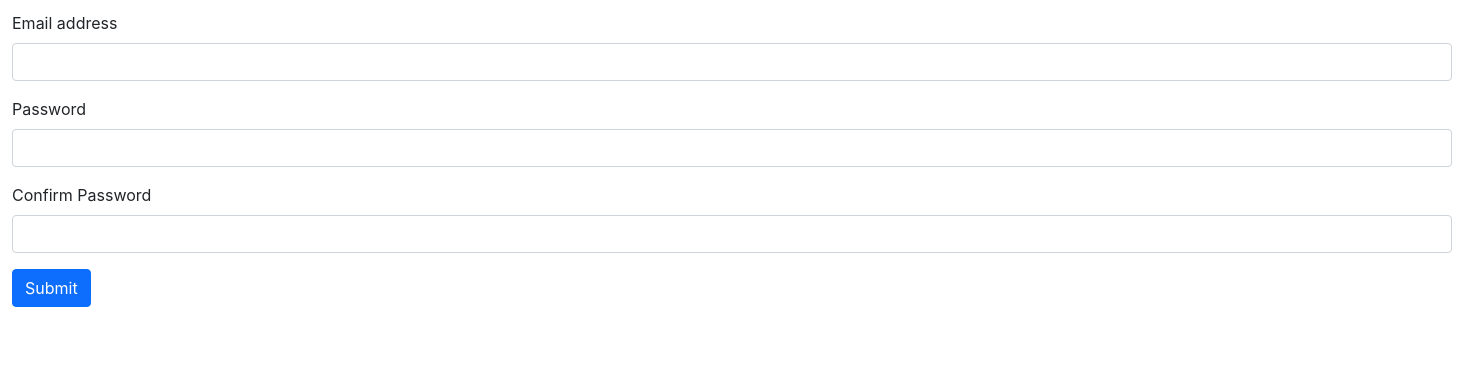
Test: App › Error Handling › should show confirm password error if password is less than 5 characters
This screenshot has width=1464, height=368.
Type "selena@gmail.com" into the field labelled "Email address" at (732, 62), box [12, 43, 1452, 81]
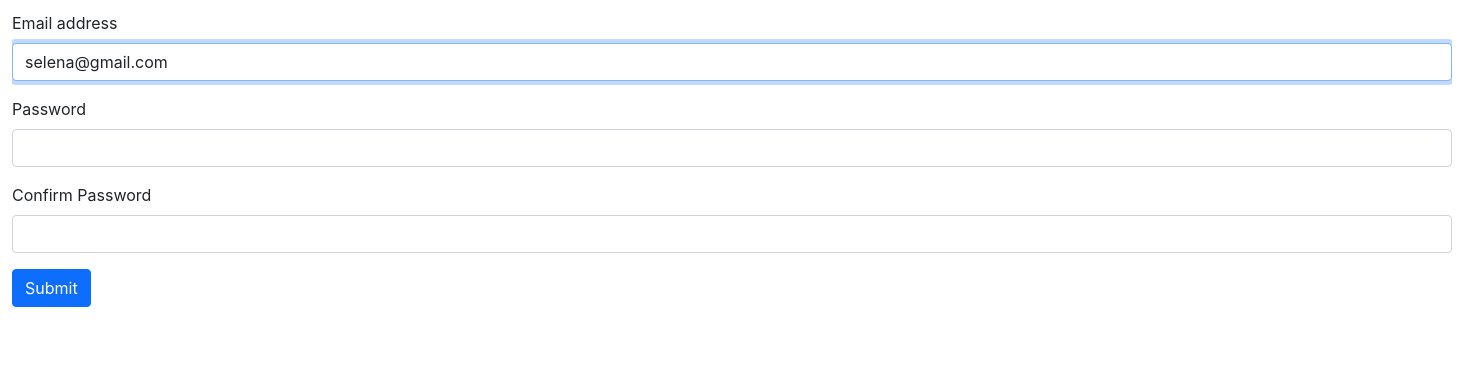
Type "12345" into the password field labelled "Password" at (732, 148), box [12, 129, 1452, 167]
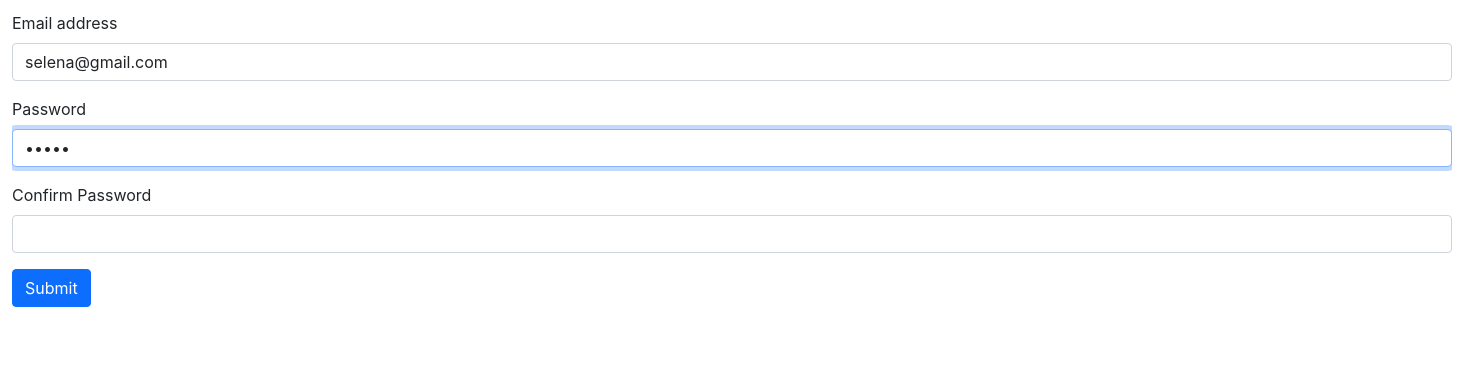
expect the text "the passwords don't match. try again" is not shown: met
Type "12543" into the password field labelled "Confirm Password" at (732, 234), box [12, 215, 1452, 253]
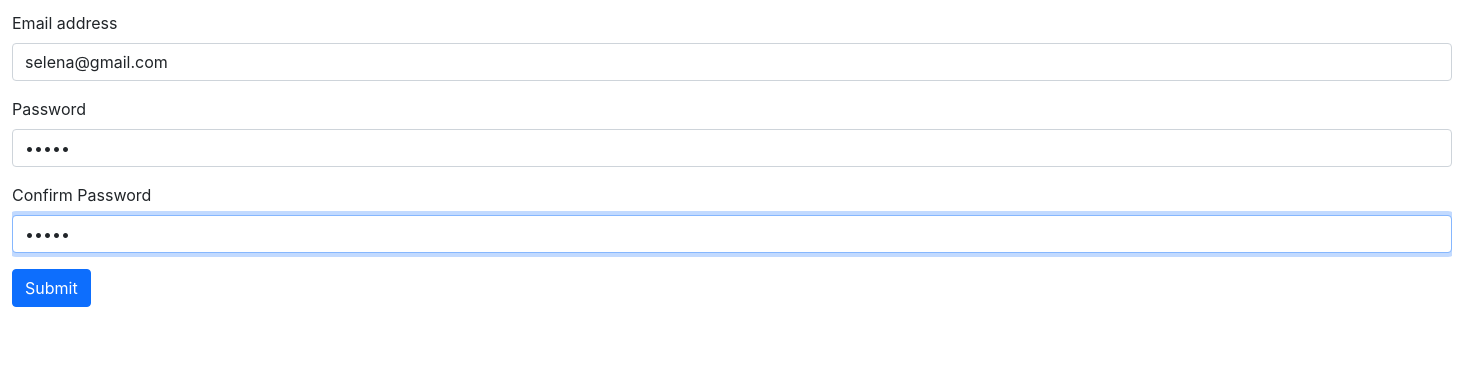
Click the button "Submit" at (51, 288), box [12, 269, 91, 307]
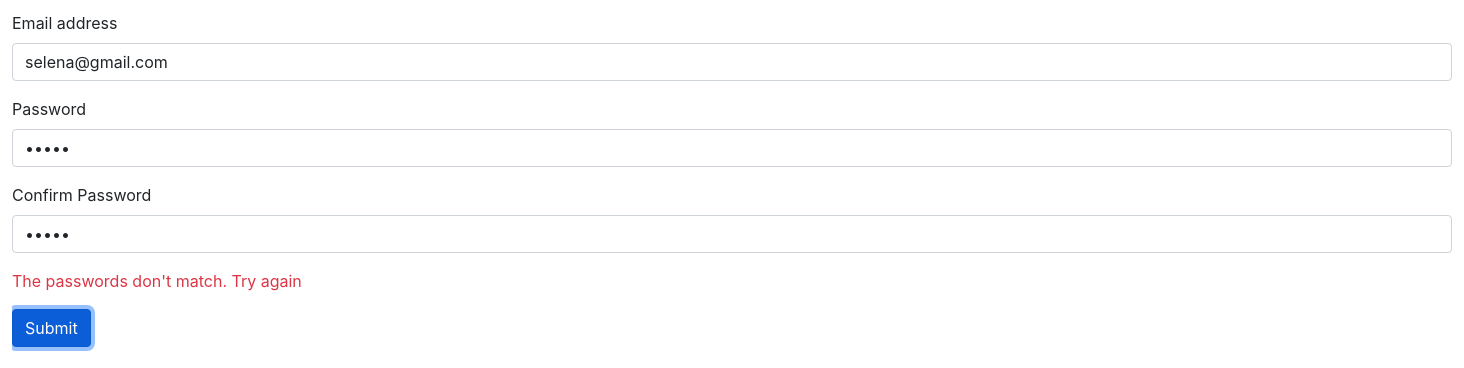
expect the text "The passwords don't match. Try again" is shown: met, box [12, 271, 302, 291]
